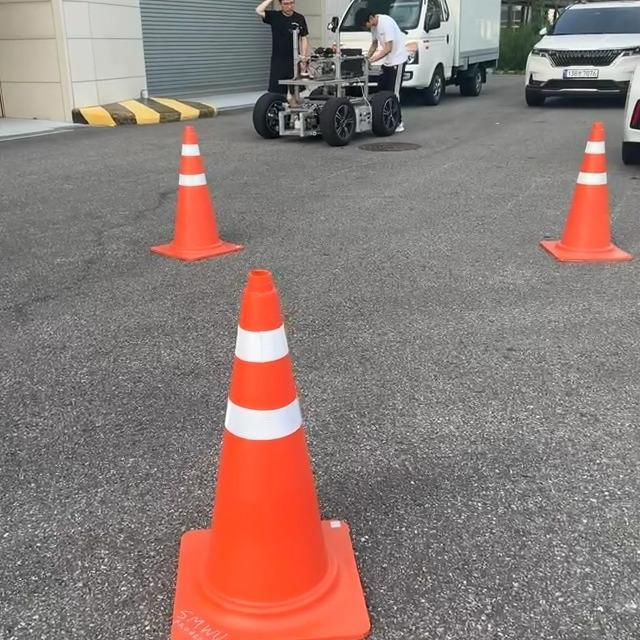fallen_object: (130, 247, 404, 640), (63, 105, 250, 269), (537, 115, 640, 339)
